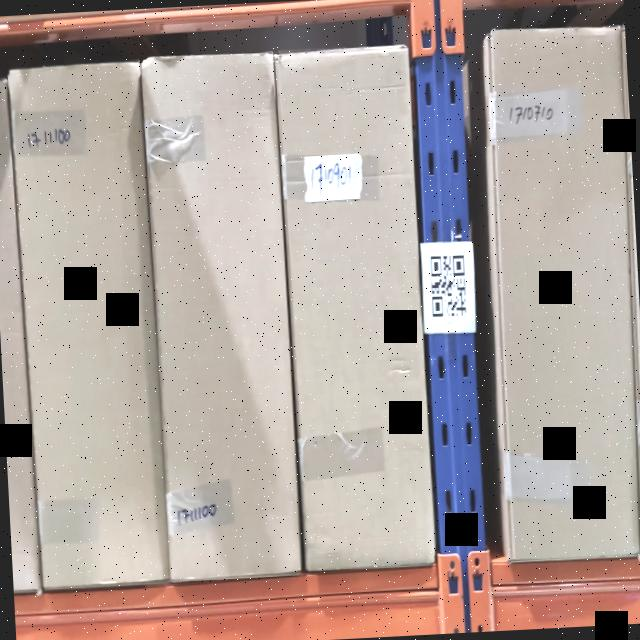box: (144, 54, 302, 582), (486, 24, 640, 564), (279, 52, 434, 572), (15, 68, 168, 588)
